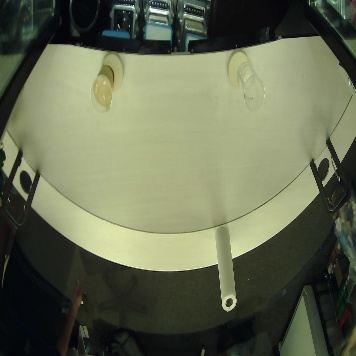empty_cup: (238, 64, 275, 114)
full_cup: (92, 65, 118, 115)
puck: (99, 49, 130, 97), (223, 45, 252, 87)
